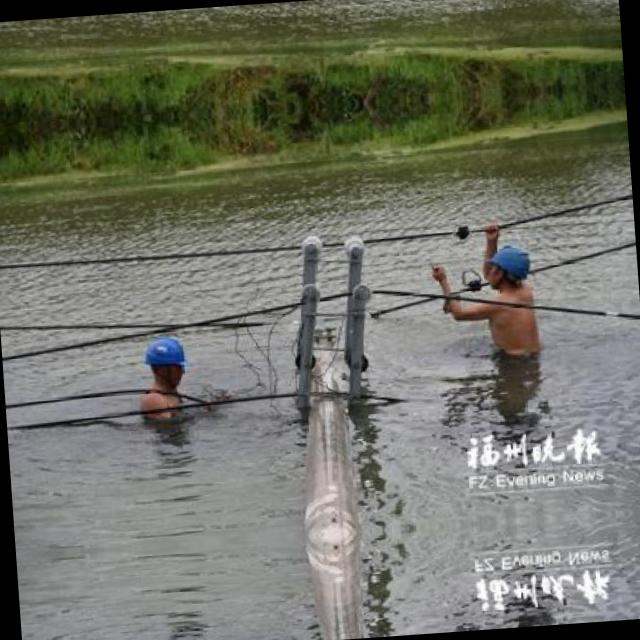helmet: (140, 329, 190, 391), (482, 240, 526, 288)
